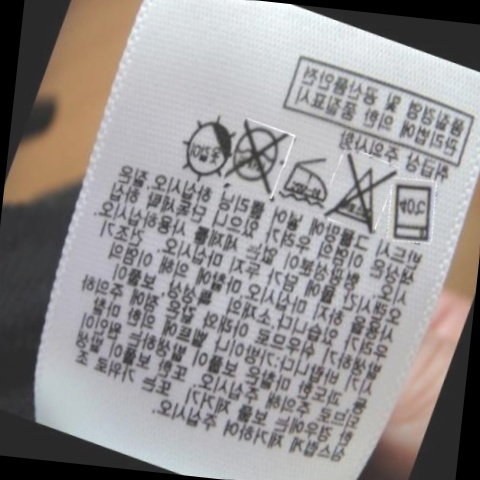40C: (386, 177, 443, 248)
DN_dry_clean: (230, 113, 285, 193)
iron_low: (280, 151, 334, 211)
line_dry_in_shade: (175, 110, 235, 183)
non_chlorine_bleach: (327, 148, 394, 234)
